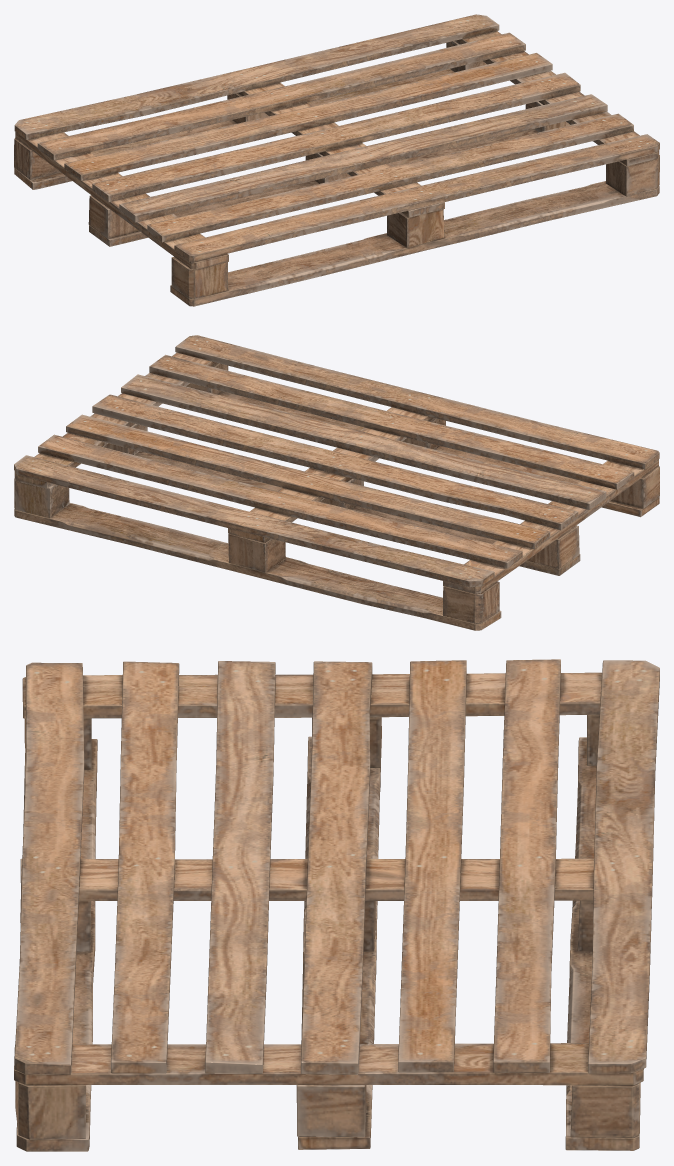
File: pallet.glb
The picture shows the model from 3 angles, top to bottom: view 1: azimuth 30°, elevation 25°; view 2: azimuth 150°, elevation 25°; view 3: azimuth 270°, elevation 25°; orthographic projection. The views are drawn at different scales.
Parts seen in each view (by area): view 1: Pallet; view 2: Pallet; view 3: Pallet.
Part boxes in pixels (bbox=[...]): Pallet: bbox=[14, 14, 659, 306]; Pallet: bbox=[14, 335, 659, 630]; Pallet: bbox=[14, 659, 659, 1151].
Size of the model in its own units: 1.5 by 0.1599 by 1.02.
1 material, 1 textured.
